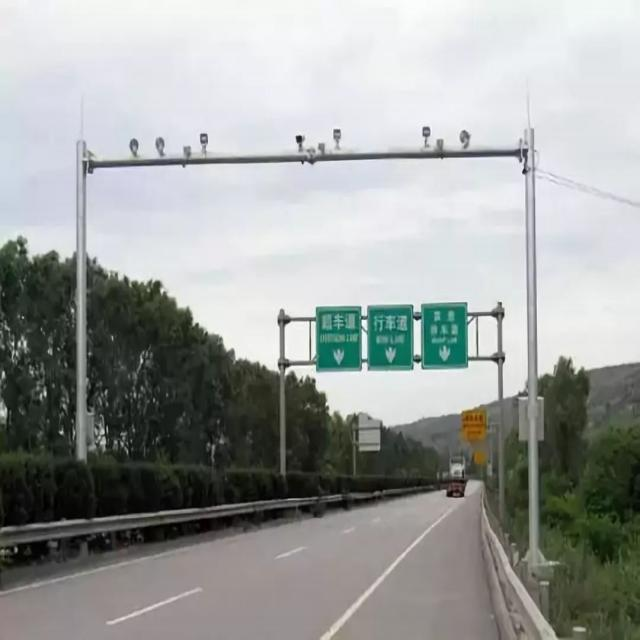point: (451, 455, 486, 494)
